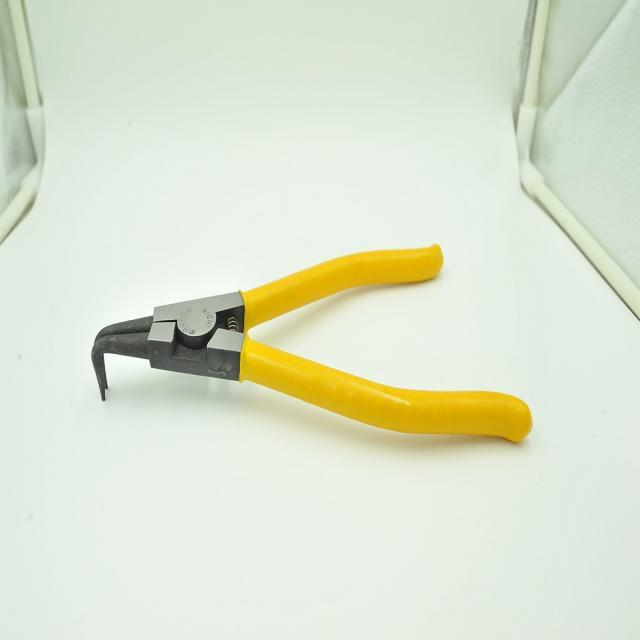pliers: (77, 240, 538, 455)
